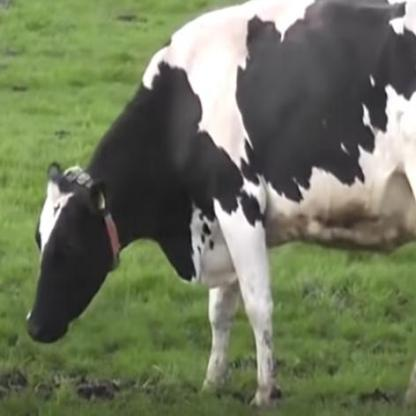cow: (25, 0, 416, 402)
